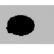correct: (5, 14, 37, 38)
